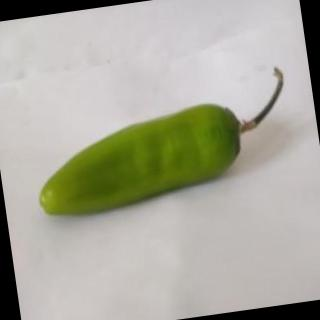Cabai Hijau: (19, 64, 303, 225)
